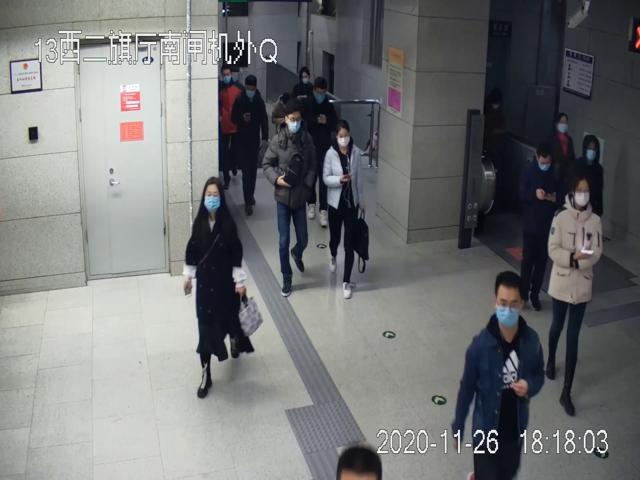person: (453, 270, 546, 480), (184, 178, 254, 398), (546, 170, 600, 416), (262, 98, 319, 298), (322, 119, 366, 300), (231, 74, 270, 219)
